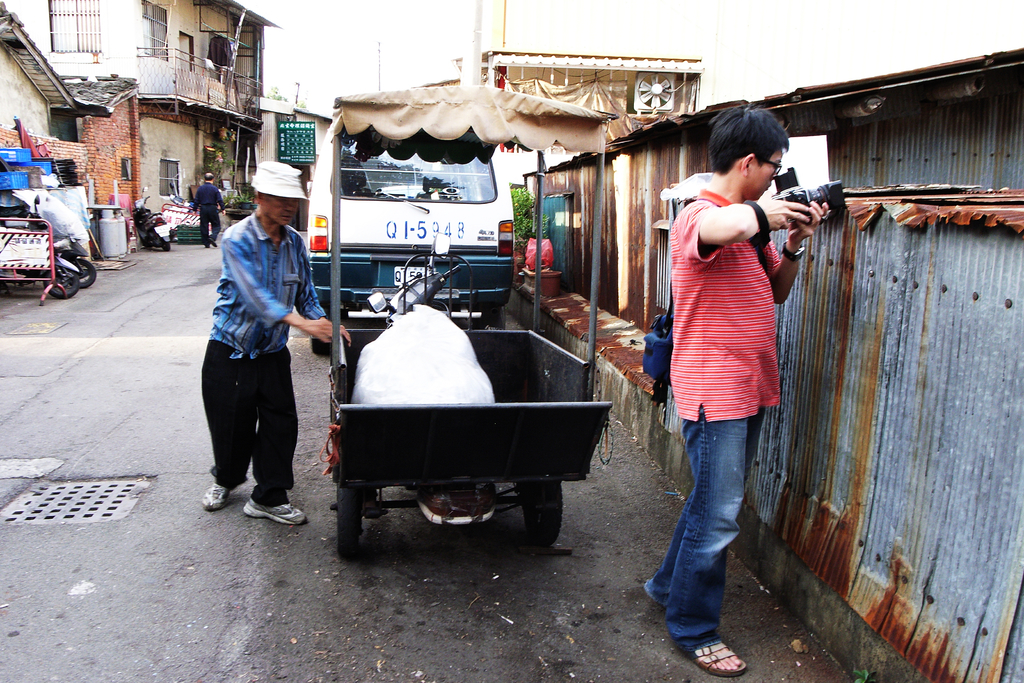Car: (307, 118, 515, 354)
